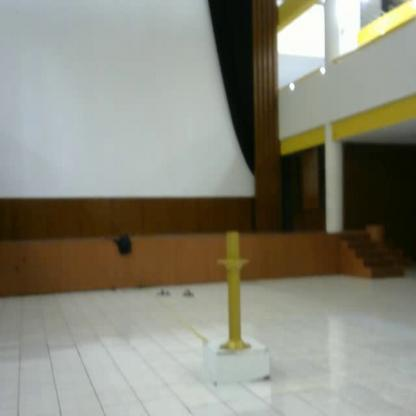pole: (213, 227, 258, 361)
